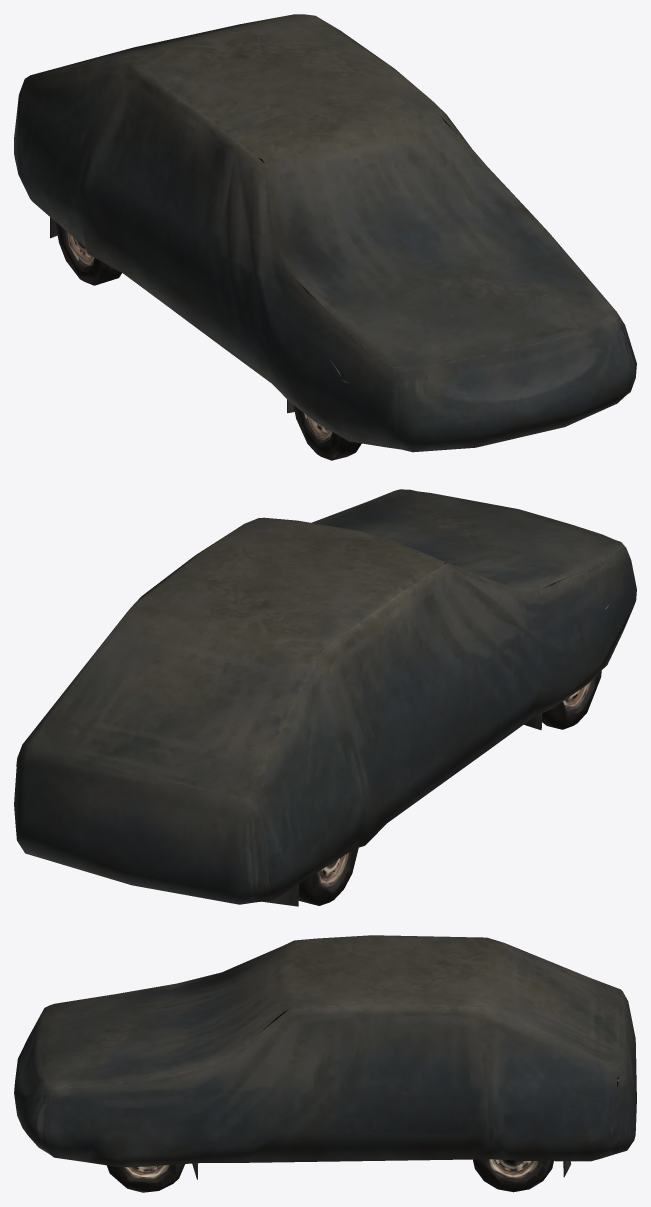
Rendered from covered_car.glb.
3 views of the same model, one above another, from view 1: azimuth 30°, elevation 25°; view 2: azimuth 150°, elevation 25°; view 3: azimuth 270°, elevation 25° (orthographic). The views are drawn at different scales.
Parts seen in each view (by area): view 1: covered_car_wheel_01; view 2: covered_car_wheel_01; view 3: covered_car_wheel_01.
Part boxes in pixels (x1,y1,x2,y2): covered_car_wheel_01: (14,14,636,460); covered_car_wheel_01: (14,489,636,906); covered_car_wheel_01: (14,935,636,1192).
Bounding box in the file's own units: 1.79 × 1.41 × 4.38.
1 material, 1 textured.
